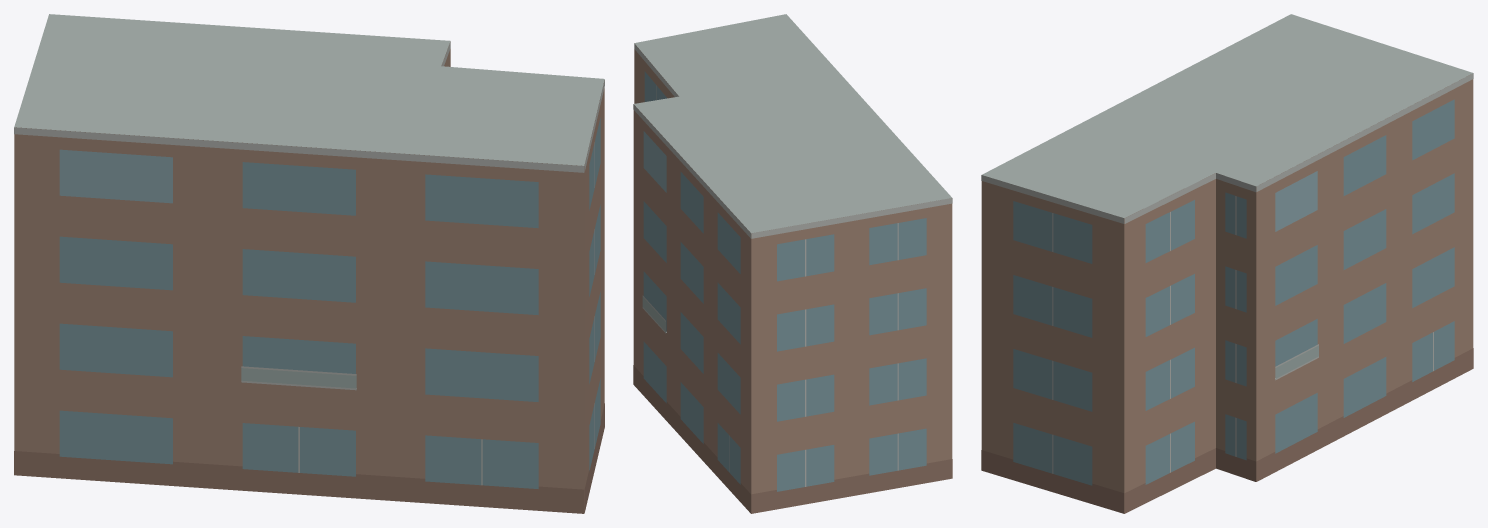
The model's file is survey-upis-32855227.glb.
3 renders of one model, left to right at view 1: azimuth 30°, elevation 25°; view 2: azimuth 150°, elevation 25°; view 3: azimuth 270°, elevation 25°, orthographic. The views are drawn at different scales.
Parts seen in each view (by area): view 1: survey-upis-32855227.tmp; view 2: survey-upis-32855227.tmp; view 3: survey-upis-32855227.tmp.
Boxes of the visible parts, <box> form: survey-upis-32855227.tmp: <box>14,14,604,513</box>; survey-upis-32855227.tmp: <box>633,14,952,513</box>; survey-upis-32855227.tmp: <box>981,14,1473,513</box>.
Size of the model in its own units: 18.08 by 12.2 by 18.41.
